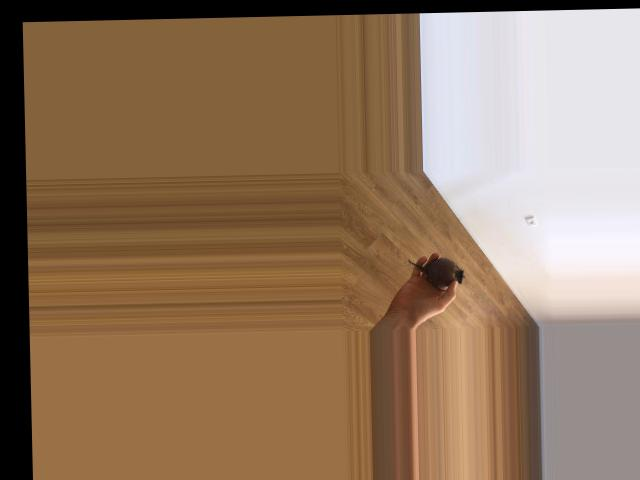beet: (408, 256, 464, 290)
